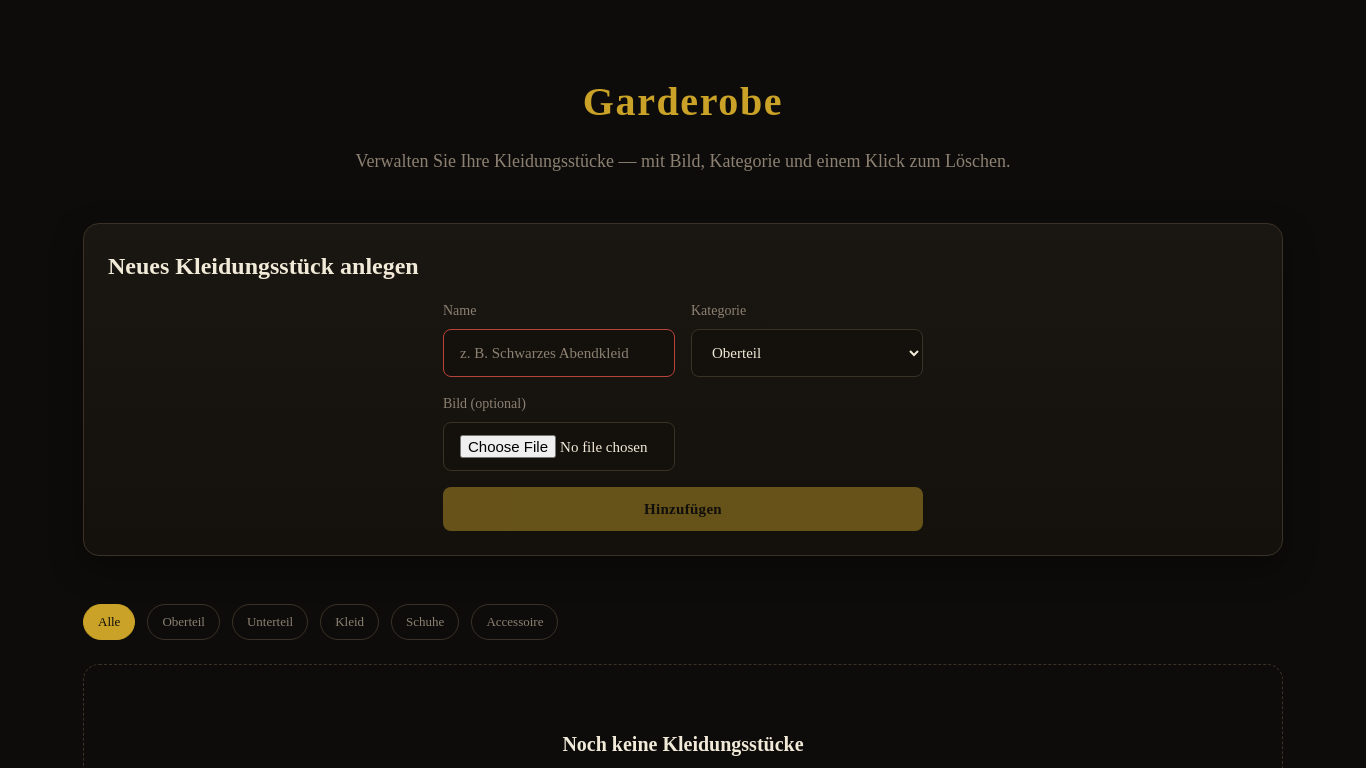
Test case: Wardrobe › zeigt bei nicht unterstütztem Format (415) eine verständliche Meldung
Expected: the heading "Noch keine Kleidungsstücke" is shown, left=562, top=733, right=804, bottom=755
Type "Falsches Format" into the field labelled "Name" at (559, 353), box left=443, top=329, right=675, bottom=377
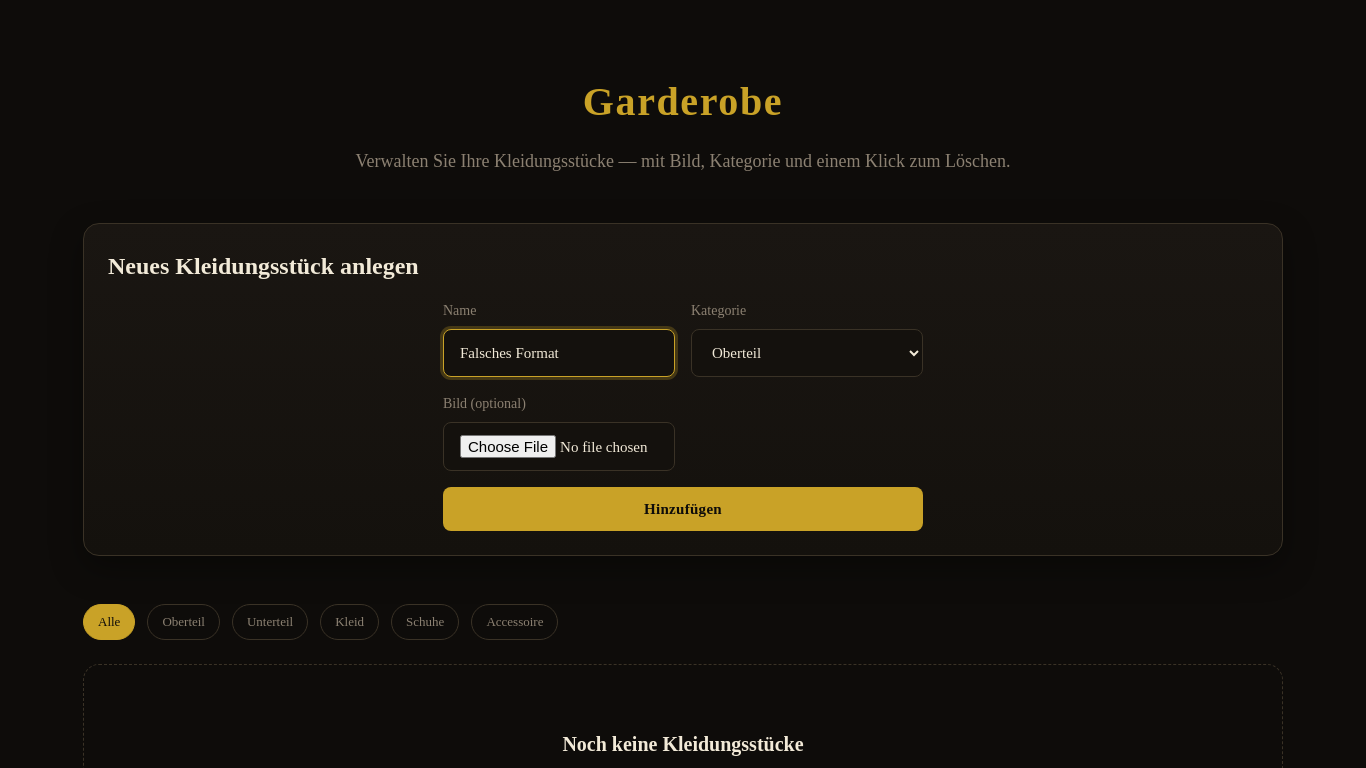
Click the button "Hinzufügen" at (683, 509), box left=443, top=487, right=923, bottom=531
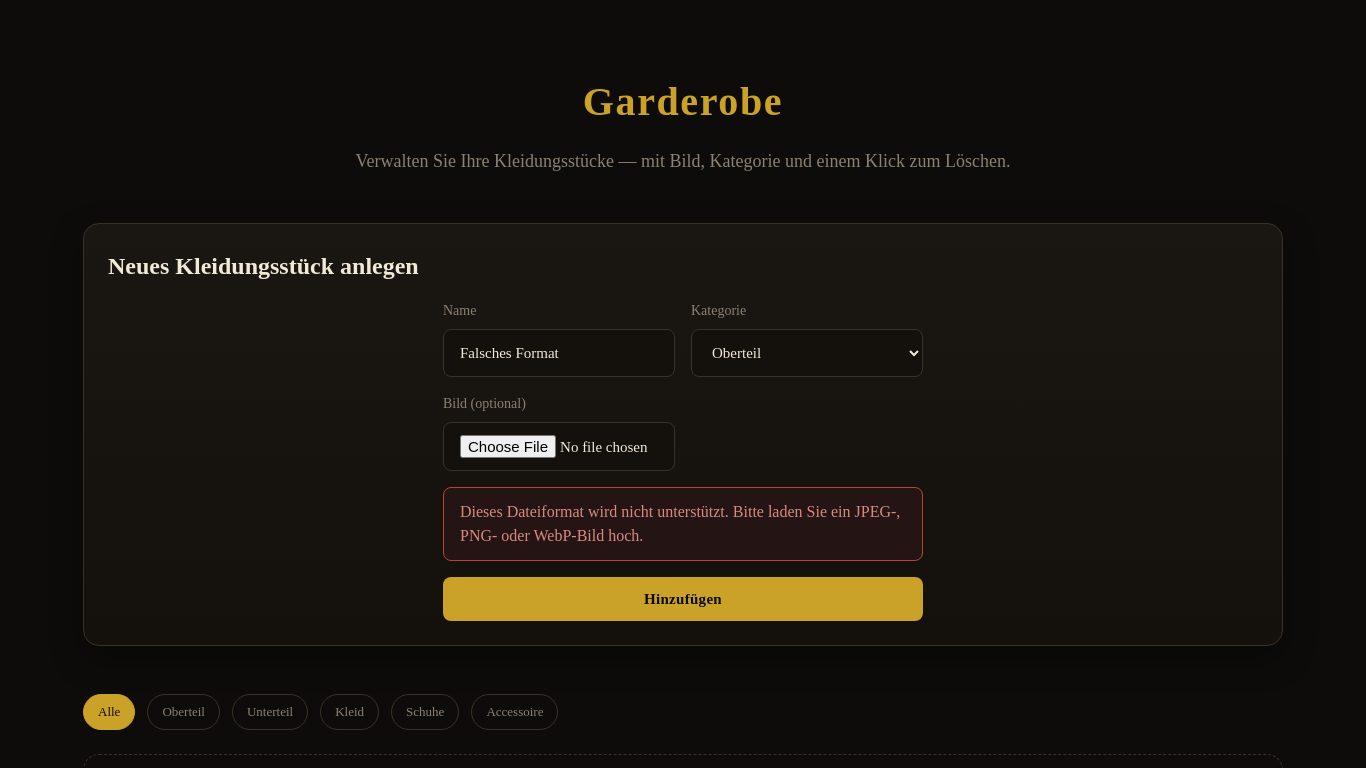
Expected: the message shows "nicht unterstützt", left=460, top=503, right=900, bottom=544
